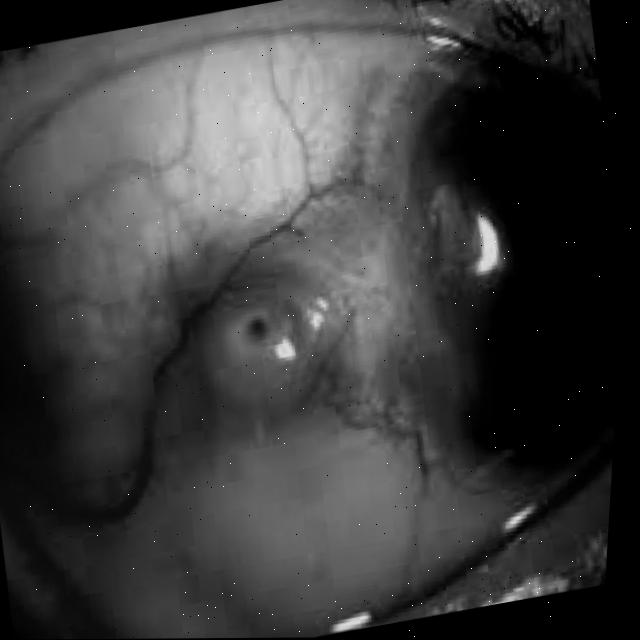Rosacea: (0, 13, 518, 578)
